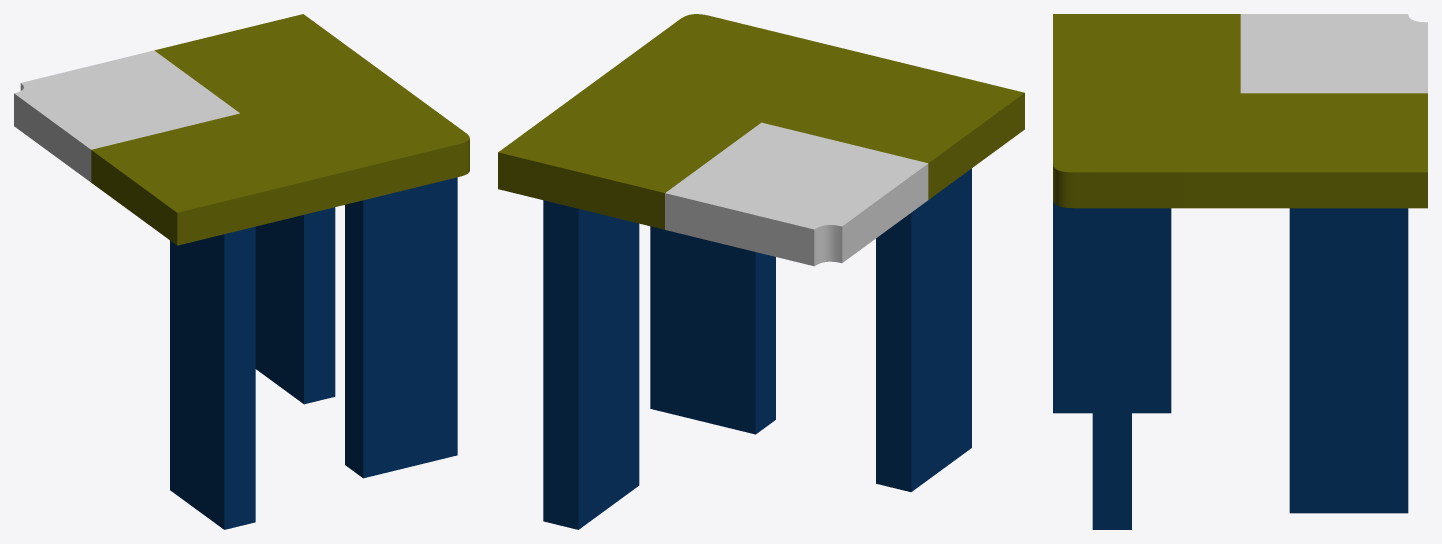
File: T11DirB.fbx
The picture shows the model from 3 angles, left to right: view 1: azimuth 30°, elevation 25°; view 2: azimuth 150°, elevation 25°; view 3: azimuth 270°, elevation 25°; orthographic projection. The views are drawn at different scales.
Parts seen in each view (by area): view 1: 1, 3, 2, 4; view 2: 2, 3, 1, 4; view 3: 2, 1, 3, 4.
Boxes of the visible parts, box(x1,y1,x2,y2) form: 1: box(240, 77, 469, 478); 3: box(91, 113, 326, 529); 2: box(154, 14, 388, 404); 4: box(14, 50, 239, 182); 2: box(498, 82, 760, 529); 3: box(762, 52, 1024, 491); 1: box(595, 14, 857, 434); 4: box(665, 122, 928, 266); 2: box(1240, 93, 1427, 513); 1: box(1053, 93, 1240, 529); 3: box(1053, 14, 1240, 413); 4: box(1240, 14, 1427, 93).
Bounding box in the file's own units: 190 × 200 × 190.
